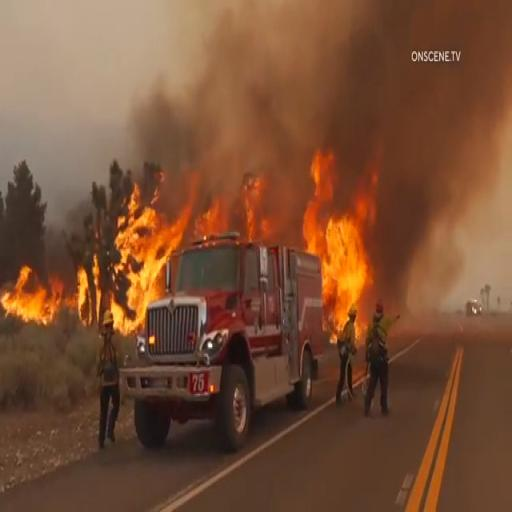fire: (74, 165, 178, 349), (304, 174, 376, 324), (212, 168, 286, 240), (3, 266, 77, 332)
smoke: (381, 63, 512, 204)
